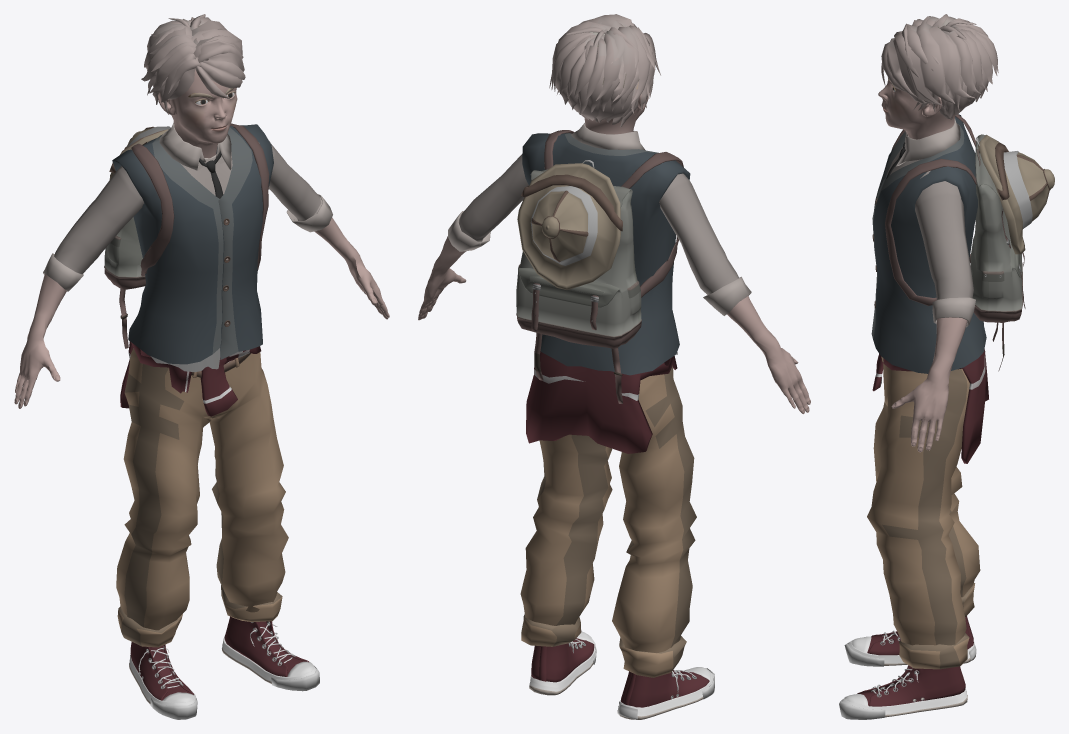
Rendered from Simon .fbx.
3 renders of one model, left to right at view 1: azimuth 30°, elevation 25°; view 2: azimuth 150°, elevation 25°; view 3: azimuth 270°, elevation 25°, orthographic. The views are drawn at different scales.
Visible parts, largest first — view 1: Simon_Back; view 2: Simon_Back; view 3: Simon_Back.
Part boxes in pixels (left/top/right/bottom): Simon_Back: left=14, top=14, right=389, bottom=719; Simon_Back: left=418, top=14, right=810, bottom=719; Simon_Back: left=839, top=14, right=1054, bottom=719.
Bounding box in the file's own units: 157 × 78.31 × 265.
